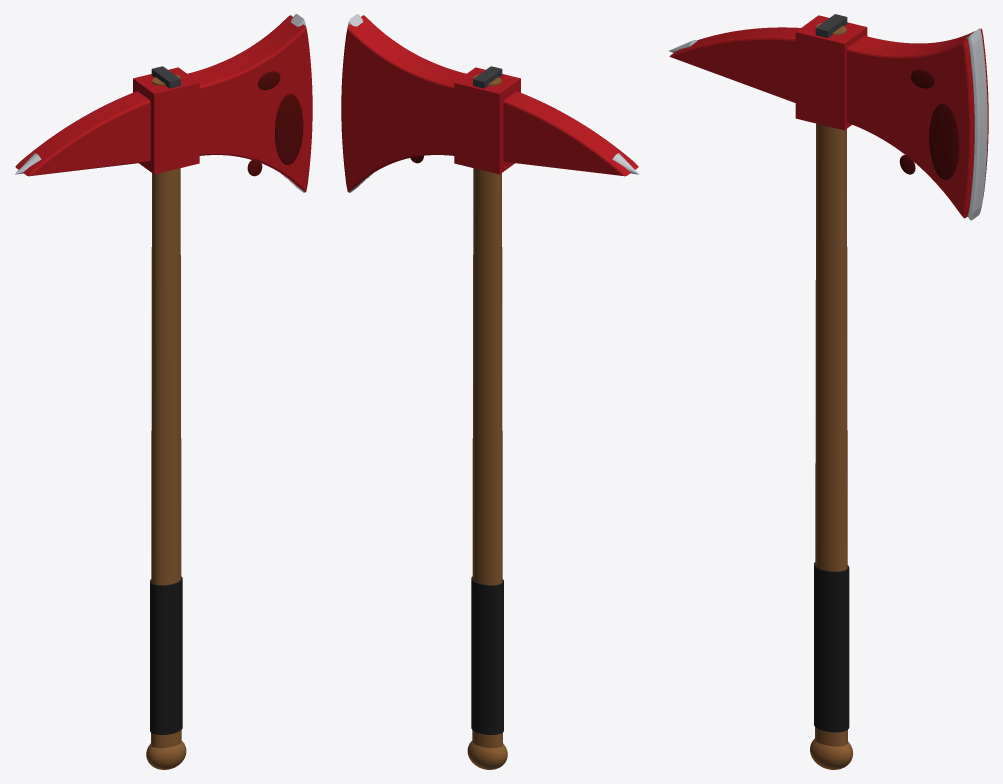
The model's file is hacha.glb.
3 views of the same model, side by side, from view 1: azimuth 30°, elevation 25°; view 2: azimuth 150°, elevation 25°; view 3: azimuth 330°, elevation 25° (orthographic). The views are drawn at different scales.
Parts seen in each view (by area): view 1: mango, hoja, pico, agarre, ojo, hoja_sangre_1, pomo; view 2: hoja, mango, pico, agarre, ojo, pomo; view 3: mango, hoja, agarre, pico, ojo, filo, hoja_sangre_1, pomo.
Part boxes in pixels (x1,y1,x2,y2): mango: [151, 74, 181, 748]; hoja: [187, 15, 312, 192]; pico: [15, 91, 150, 176]; agarre: [150, 576, 182, 734]; ojo: [133, 67, 199, 174]; hoja_sangre_1: [275, 93, 303, 165]; pomo: [146, 741, 186, 769]; hoja: [341, 15, 466, 192]; mango: [472, 74, 502, 748]; pico: [503, 91, 638, 176]; agarre: [471, 576, 503, 734]; ojo: [454, 67, 520, 174]; pomo: [467, 741, 507, 769]; mango: [815, 23, 847, 746]; hoja: [846, 28, 988, 218]; agarre: [814, 562, 849, 732]; pico: [669, 27, 800, 102]; ojo: [795, 15, 867, 130]; filo: [965, 28, 987, 220]; hoja_sangre_1: [929, 103, 959, 179]; pomo: [810, 738, 853, 769].
Size of the model in its own units: 1.03 by 2.41 by 0.13.
